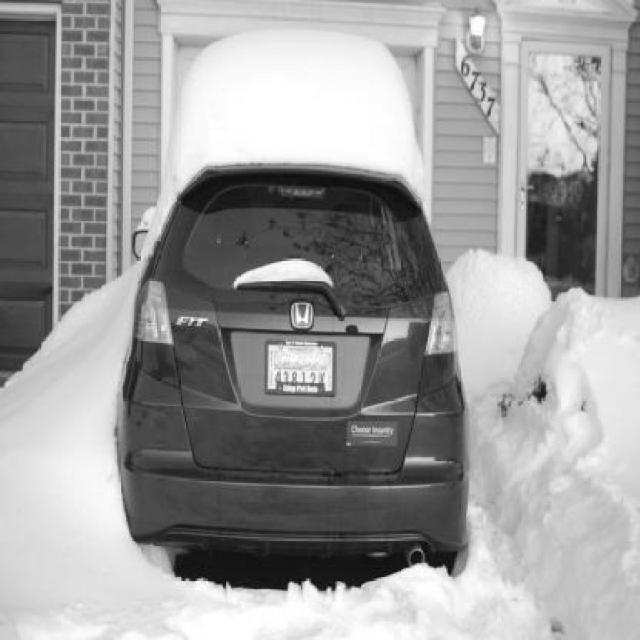car: (114, 164, 475, 582)
license-plate: (265, 338, 337, 397)
